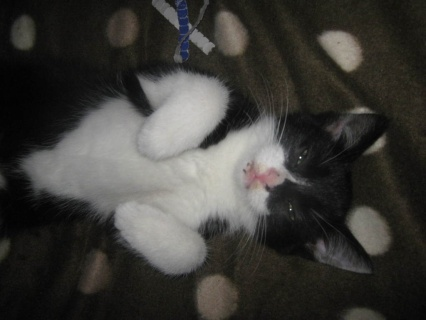Cat: (8, 61, 390, 285)
